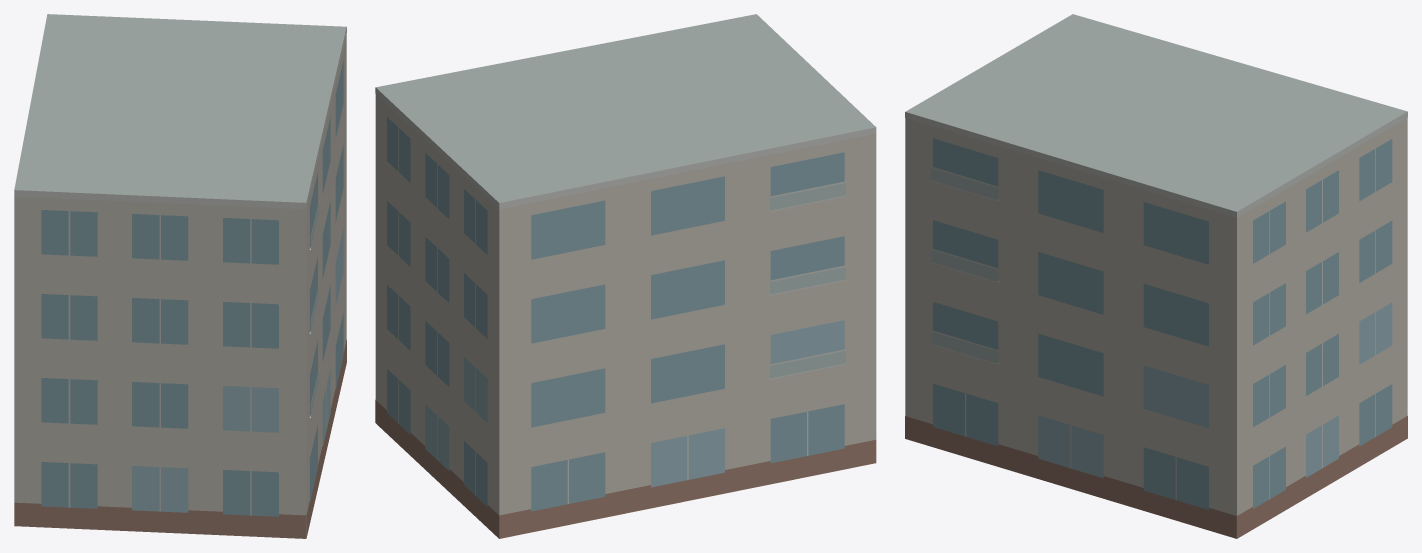
File: survey-upis-32737424.glb
The picture shows the model from 3 angles, left to right: view 1: azimuth 30°, elevation 25°; view 2: azimuth 150°, elevation 25°; view 3: azimuth 270°, elevation 25°; orthographic projection. The views are drawn at different scales.
Visible parts, largest first — view 1: survey-upis-32737424.tmp; view 2: survey-upis-32737424.tmp; view 3: survey-upis-32737424.tmp.
Boxes of the visible parts, x1,y1,x2,y2 form: survey-upis-32737424.tmp: (14,14,346,538); survey-upis-32737424.tmp: (375,14,876,538); survey-upis-32737424.tmp: (905,14,1407,538).
Size of the model in its own units: 16.88 by 13 by 18.12.
